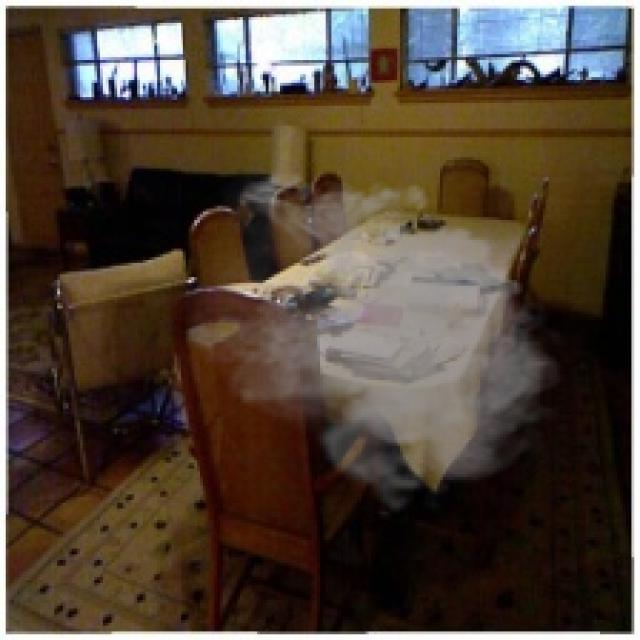smoke: (172, 163, 574, 514)
